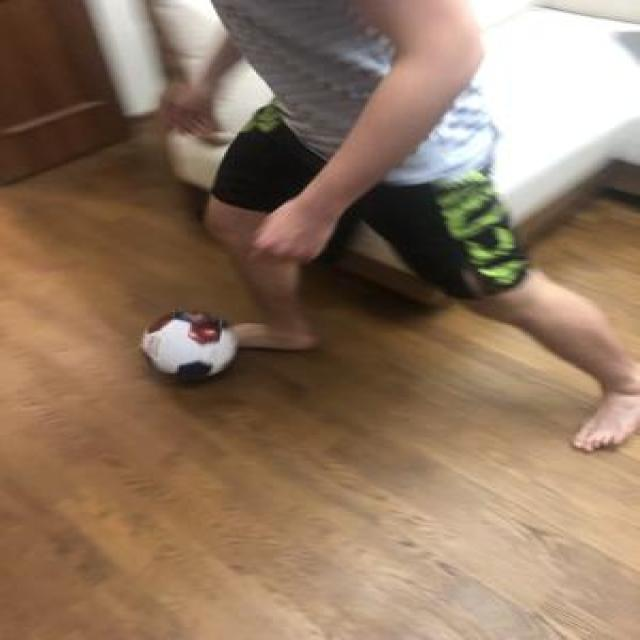Soccer Ball: (136, 306, 237, 379)
